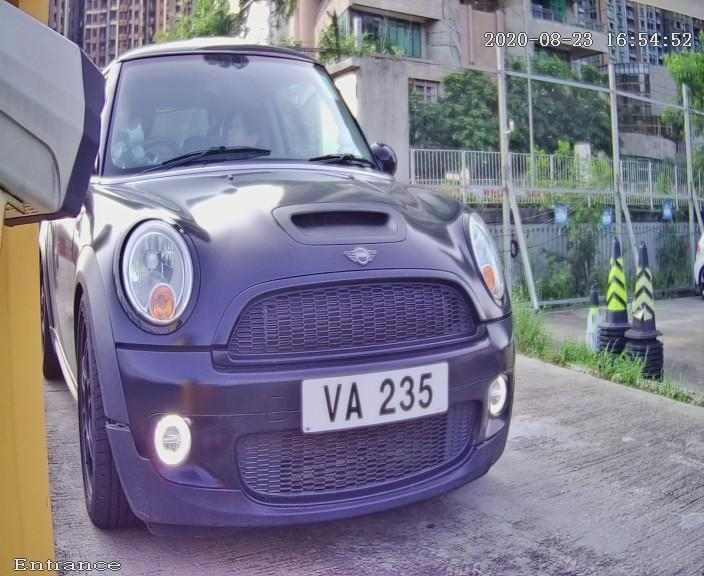Car: (10, 3, 566, 576)
License Plate: (267, 313, 493, 468)
